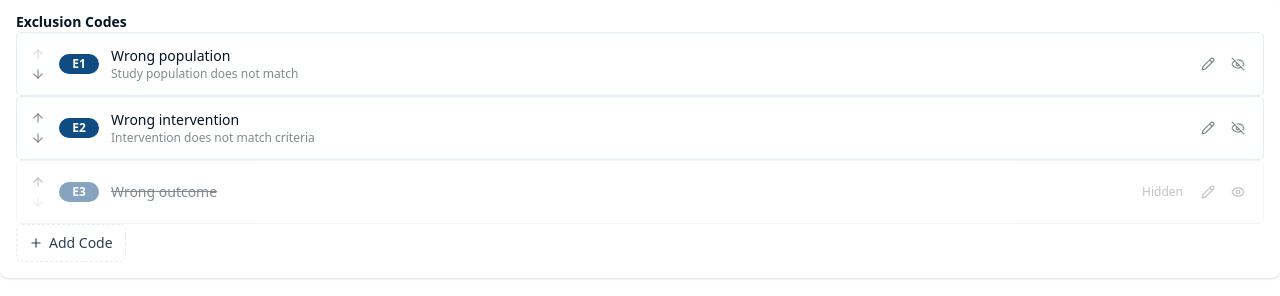
Test case: ExclusionCodeManager › opens inline edit form when edit button is clicked
The image size is (1280, 296).
Click the button with test id "edit-code-ec-1" at {"x": 1208, "y": 64}, box [1195, 51, 1221, 77]
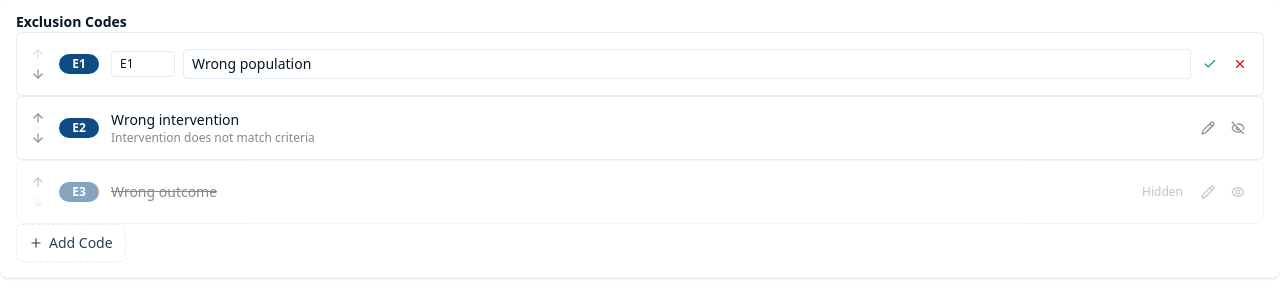
Check: the element with test id "edit-form-ec-1" is shown, box [111, 49, 1251, 79]
Check: the field with test id "edit-label-input-ec-1" holds "Wrong population", box [183, 49, 1191, 79]
Check: the field with test id "edit-short-code-input-ec-1" holds "E1", box [111, 51, 175, 77]
